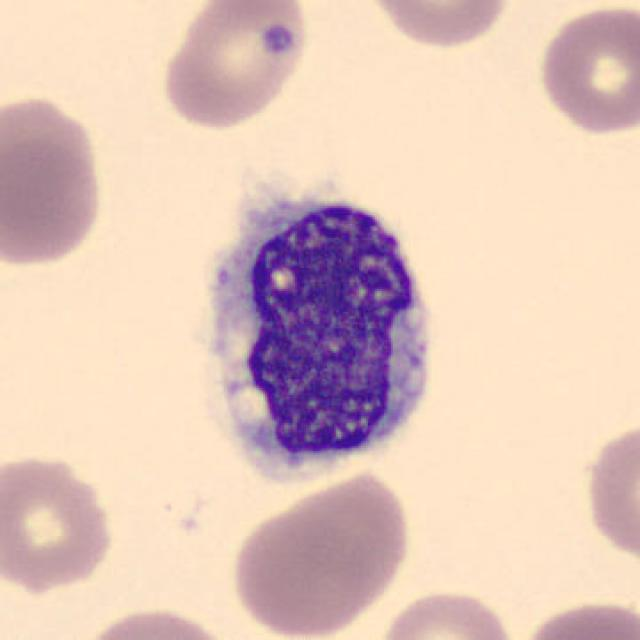Monocyte: (183, 169, 455, 494)
RBC: (226, 467, 416, 640), (156, 0, 314, 132), (0, 89, 108, 273), (0, 450, 119, 594), (534, 2, 638, 138), (578, 414, 640, 573), (371, 583, 522, 640), (358, 0, 516, 51), (75, 603, 236, 640), (514, 596, 638, 640)
